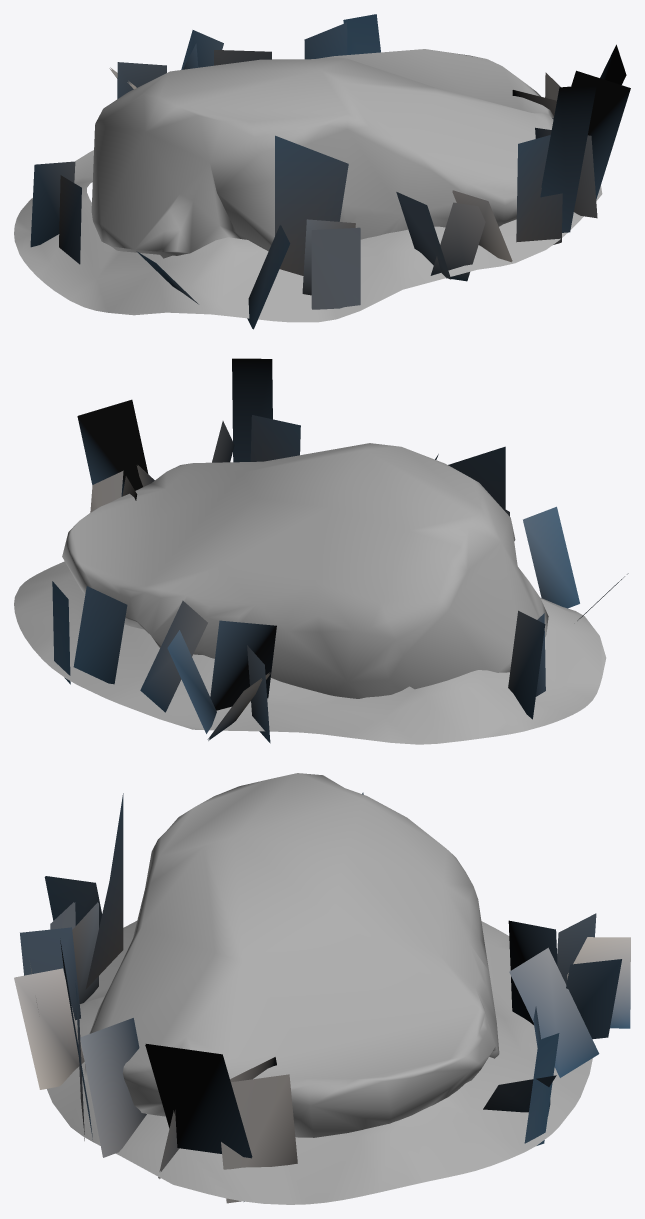
File: FeatureRockSmall.fbx
The picture shows the model from 3 angles, top to bottom: view 1: azimuth 30°, elevation 25°; view 2: azimuth 150°, elevation 25°; view 3: azimuth 270°, elevation 25°; orthographic projection. The views are drawn at different scales.
Visible parts, largest first — view 1: FeatureSmallRock, FeatureSmallMud, FeatureSmallRockGrass, FeatureSmallTallGrass; view 2: FeatureSmallRock, FeatureSmallMud, FeatureSmallRockGrass, FeatureSmallTallGrass; view 3: FeatureSmallRock, FeatureSmallRockGrass, FeatureSmallMud, FeatureSmallTallGrass.
Boxes of the visible parts, x1,y1,x2,y2 form: FeatureSmallRock: (91, 49, 553, 258); FeatureSmallMud: (14, 150, 602, 322); FeatureSmallRockGrass: (30, 14, 597, 329); FeatureSmallTallGrass: (275, 44, 630, 275); FeatureSmallRock: (62, 443, 548, 698); FeatureSmallMud: (14, 561, 606, 744); FeatureSmallRockGrass: (52, 421, 628, 743); FeatureSmallTallGrass: (77, 358, 505, 511); FeatureSmallRock: (84, 773, 499, 1137); FeatureSmallRockGrass: (14, 792, 630, 1203); FeatureSmallMud: (47, 921, 592, 1204); FeatureSmallTallGrass: (60, 793, 252, 1158).
Size of the model in its own units: 138 by 54.42 by 115.
